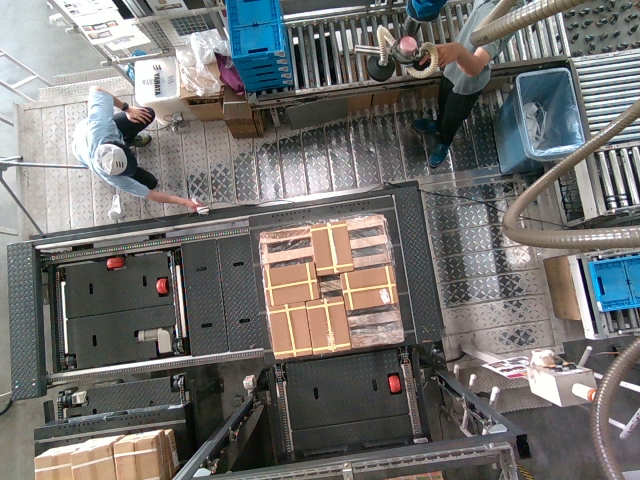box: (263, 263, 320, 303), (342, 267, 399, 307), (311, 221, 350, 275), (308, 299, 347, 353), (269, 304, 308, 358)
